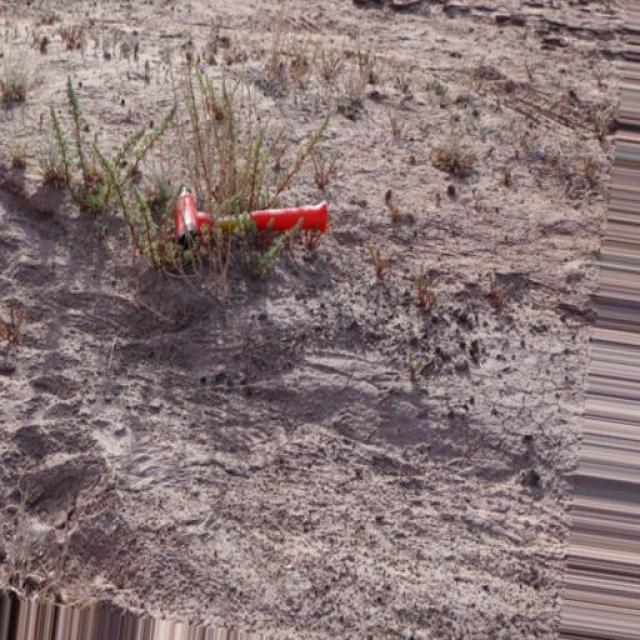mallet: (171, 185, 329, 257)
